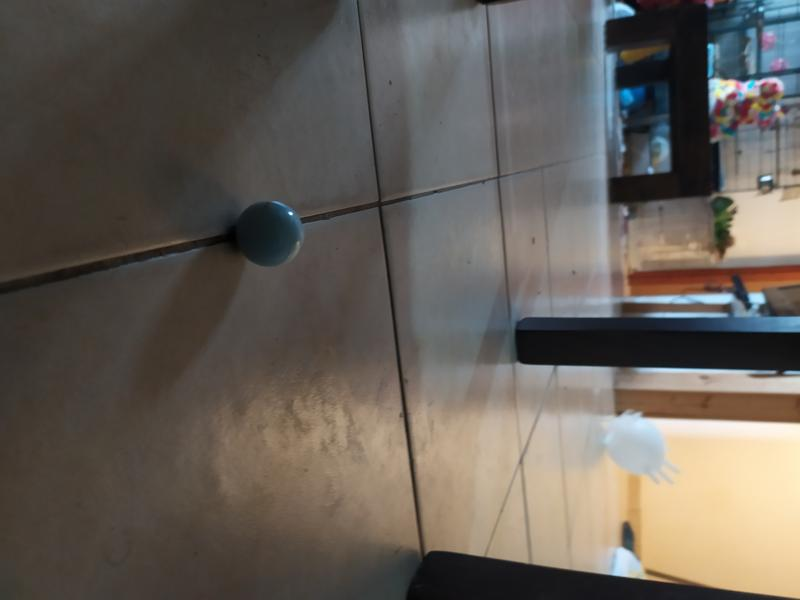Warning: (232, 198, 306, 270)
